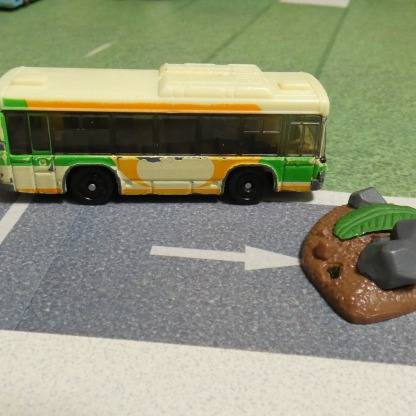car: (0, 63, 328, 206)
